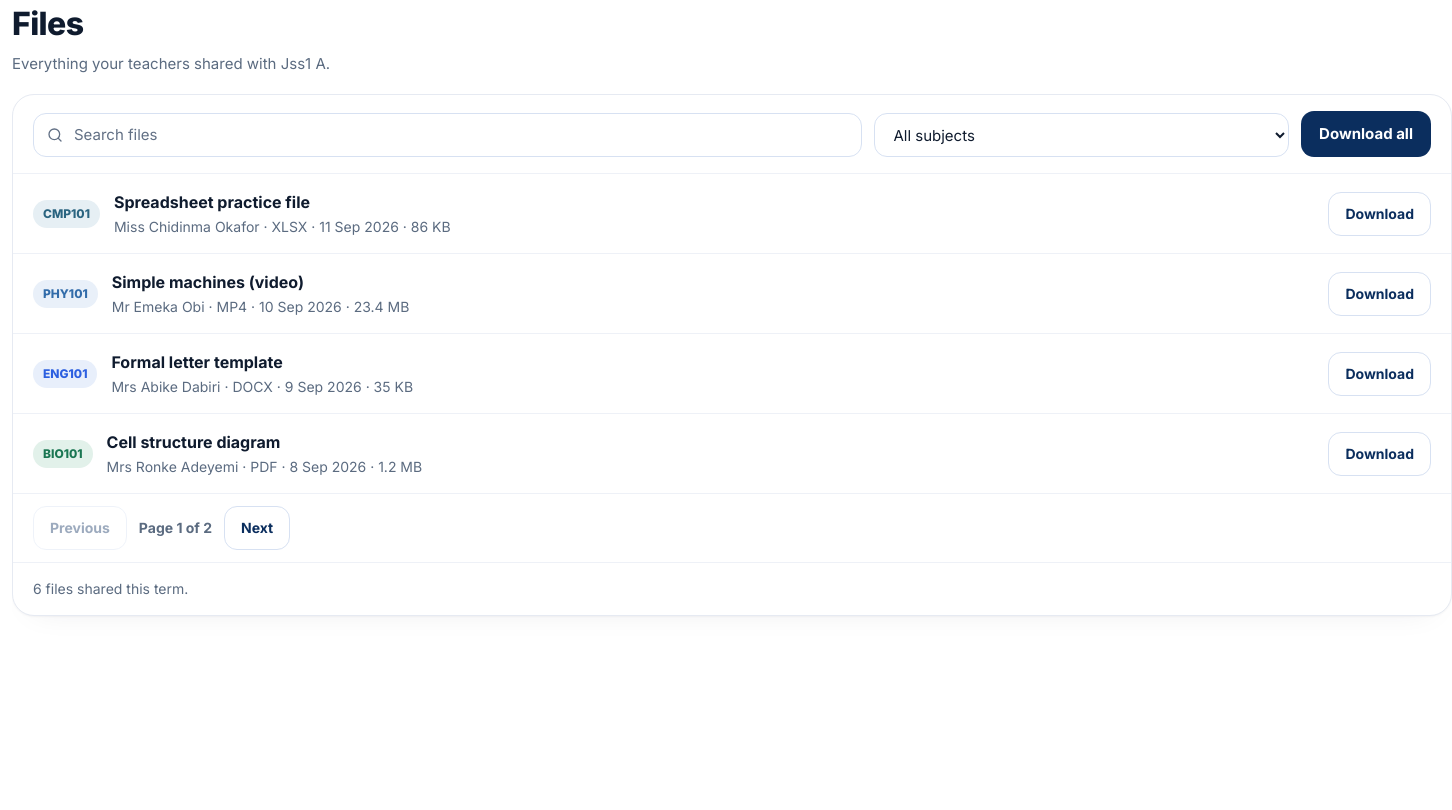
Scenario: Files screen › pages through a long list
Expected: the list named "Files" is shown, [13,174,1451,494]
Expected: the navigation bar named "Pages of files" shows "Page 1 of 2", [13,494,1451,563]
Step 1. Click the button "Next" → (257,528), box [224,506,290,550]
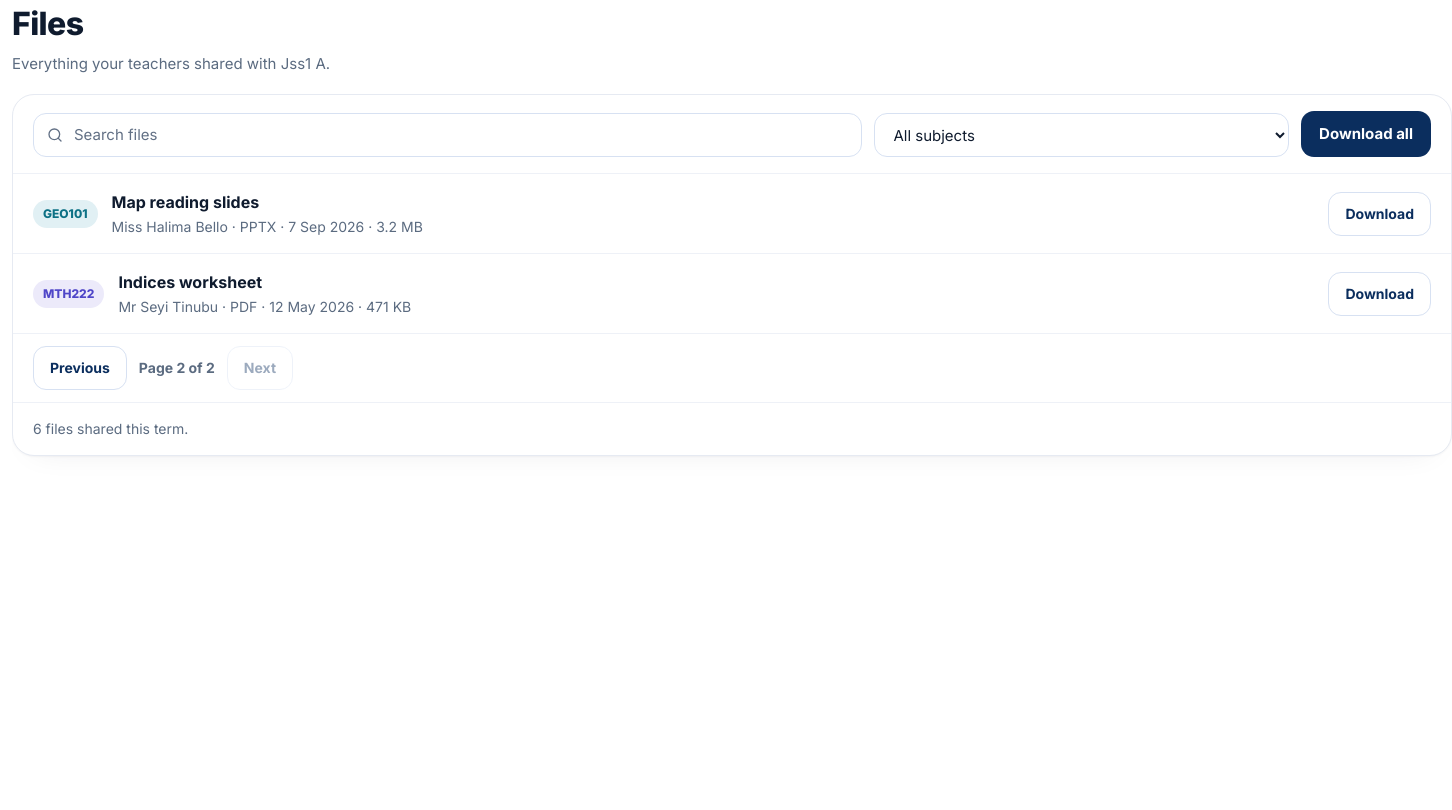
Expected: the navigation bar named "Pages of files" shows "Page 2 of 2", [13,334,1451,403]
Expected: the number of list items is 2, [13,174,1451,254]; [13,254,1451,334]
